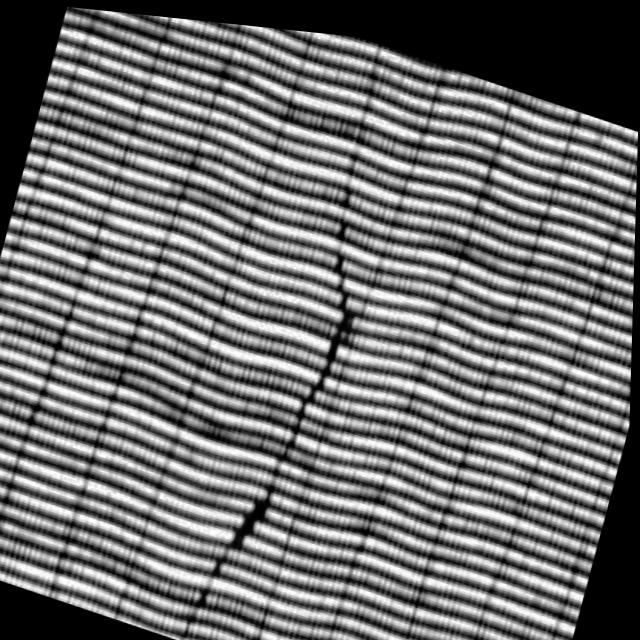Stitch: (160, 150, 418, 640)
